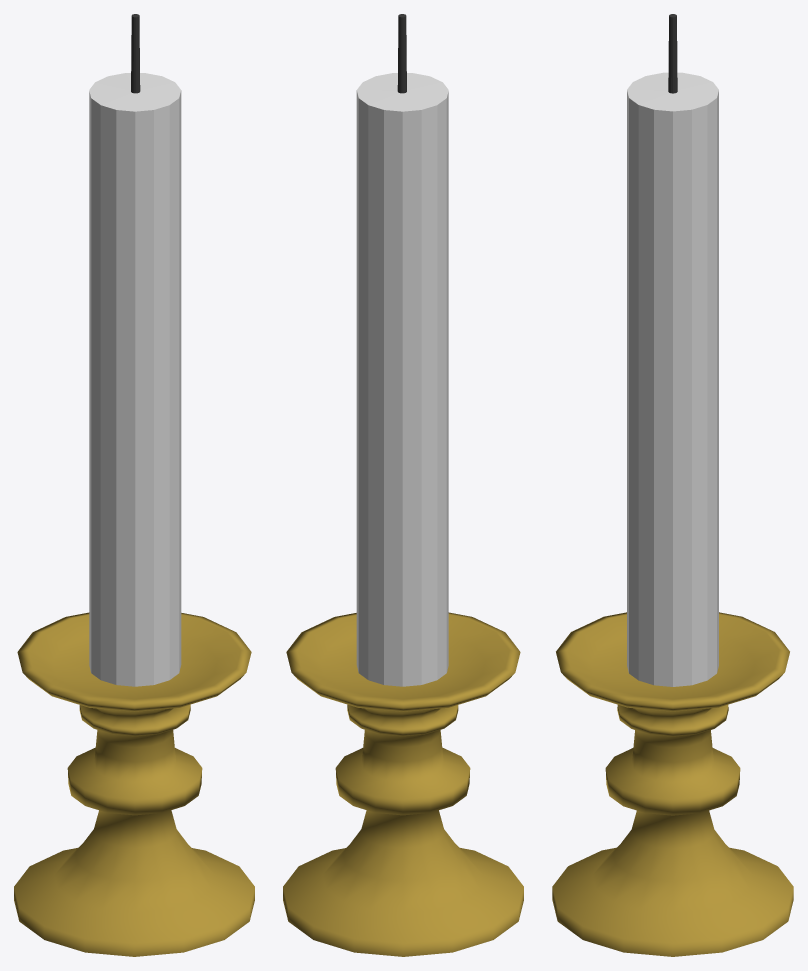
File: Sem_Candle_Color.fbx
3 views of the same model, side by side, from view 1: azimuth 30°, elevation 25°; view 2: azimuth 150°, elevation 25°; view 3: azimuth 270°, elevation 25° (orthographic).
Visible parts, largest first — view 1: Candle; view 2: Candle; view 3: Candle.
Part boxes in pixels (x1,y1,x2,y2): Candle: [14, 14, 254, 956]; Candle: [283, 14, 523, 956]; Candle: [552, 14, 793, 956].
Size of the model in its own units: 0.6855 by 2.85 by 0.6893.
